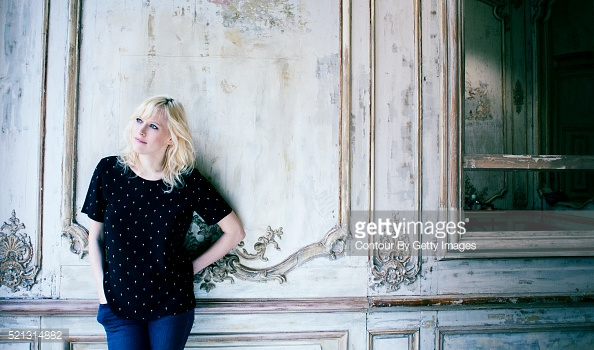em pe: (60, 99, 242, 350)
